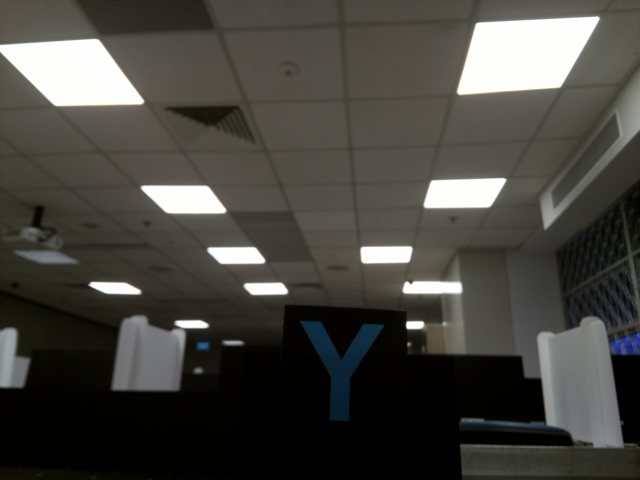y: (297, 315, 391, 421)
